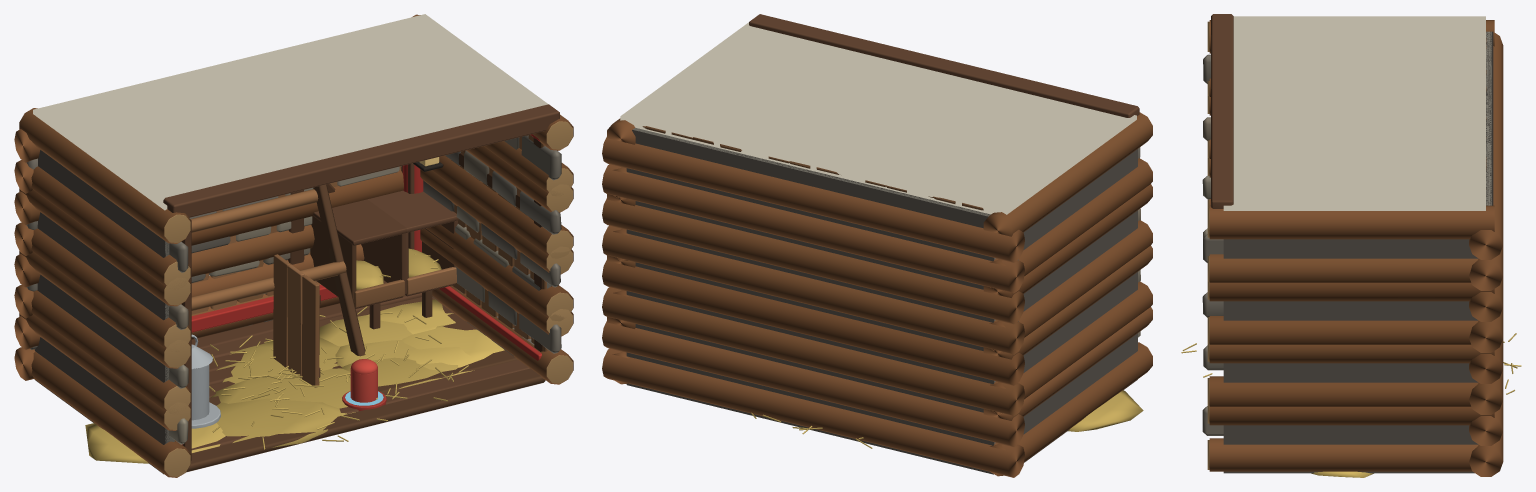
Rendered from interiors.glb.
The picture shows the model from 3 angles, left to right: view 1: azimuth 30°, elevation 25°; view 2: azimuth 150°, elevation 25°; view 3: azimuth 270°, elevation 25°; orthographic projection.
Parts seen in each view (by area): view 1: inside_rir, inside_bra, inside_orp, inside_leg, inside_pop, inside_sil; view 2: inside_bra, inside_orp, inside_leg, inside_rir; view 3: inside_bra, inside_orp, inside_leg, inside_rir.
Part boxes in pixels (x1,y1,x2,y2): inside_rir: (85, 104, 559, 472); inside_bra: (14, 14, 573, 477); inside_orp: (33, 14, 550, 443); inside_leg: (26, 135, 561, 474); inside_pop: (273, 254, 320, 387); inside_sil: (182, 134, 541, 444); inside_bra: (602, 112, 1152, 477); inside_orp: (620, 22, 1136, 443); inside_leg: (626, 126, 1140, 474); inside_rir: (643, 14, 1143, 448); inside_bra: (1207, 20, 1503, 476); inside_orp: (1223, 16, 1491, 210); inside_leg: (1202, 31, 1493, 473); inside_rir: (1181, 14, 1521, 477).
Size of the model in its own units: 1.77 by 1.08 by 1.19.
